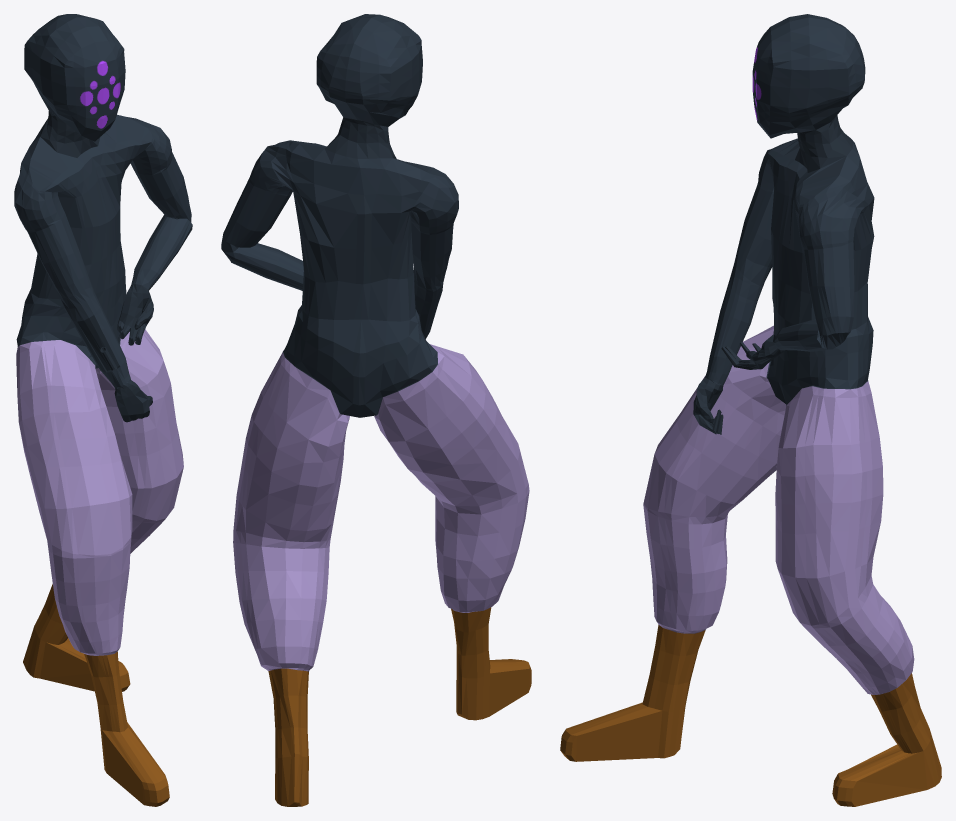
File: Oracle_WF_000012.obj
3 views of the same model, side by side, from view 1: azimuth 30°, elevation 25°; view 2: azimuth 150°, elevation 25°; view 3: azimuth 270°, elevation 25° (orthographic). The views are drawn at different scales.
Parts seen in each view (by area): view 1: Cube; view 2: Cube; view 3: Cube.
Boxes of the visible parts, <box> form: Cube: <box>14,14,192,806</box>; Cube: <box>221,14,531,806</box>; Cube: <box>560,14,941,806</box>.
Bounding box in the file's own units: 1.18 × 3.75 × 1.72.
